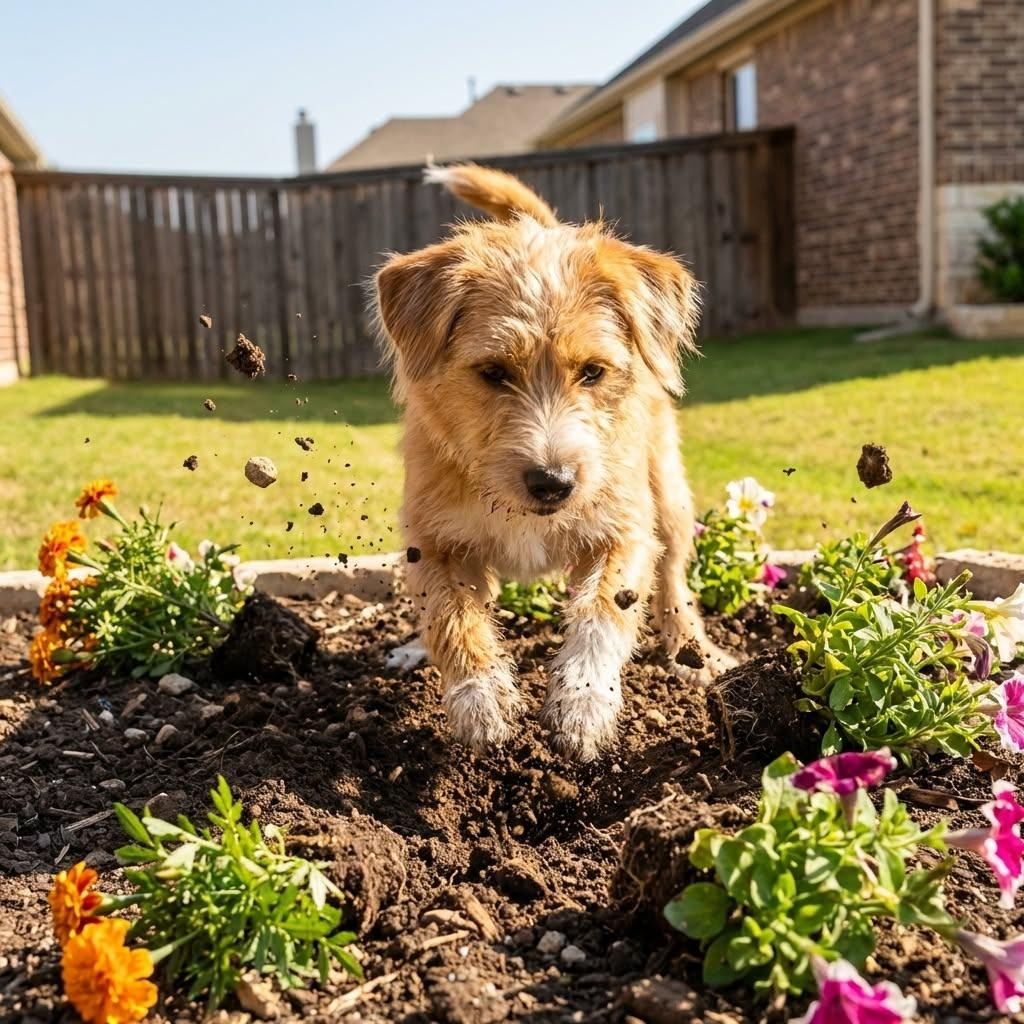puppy-dog: (369, 154, 730, 768)
